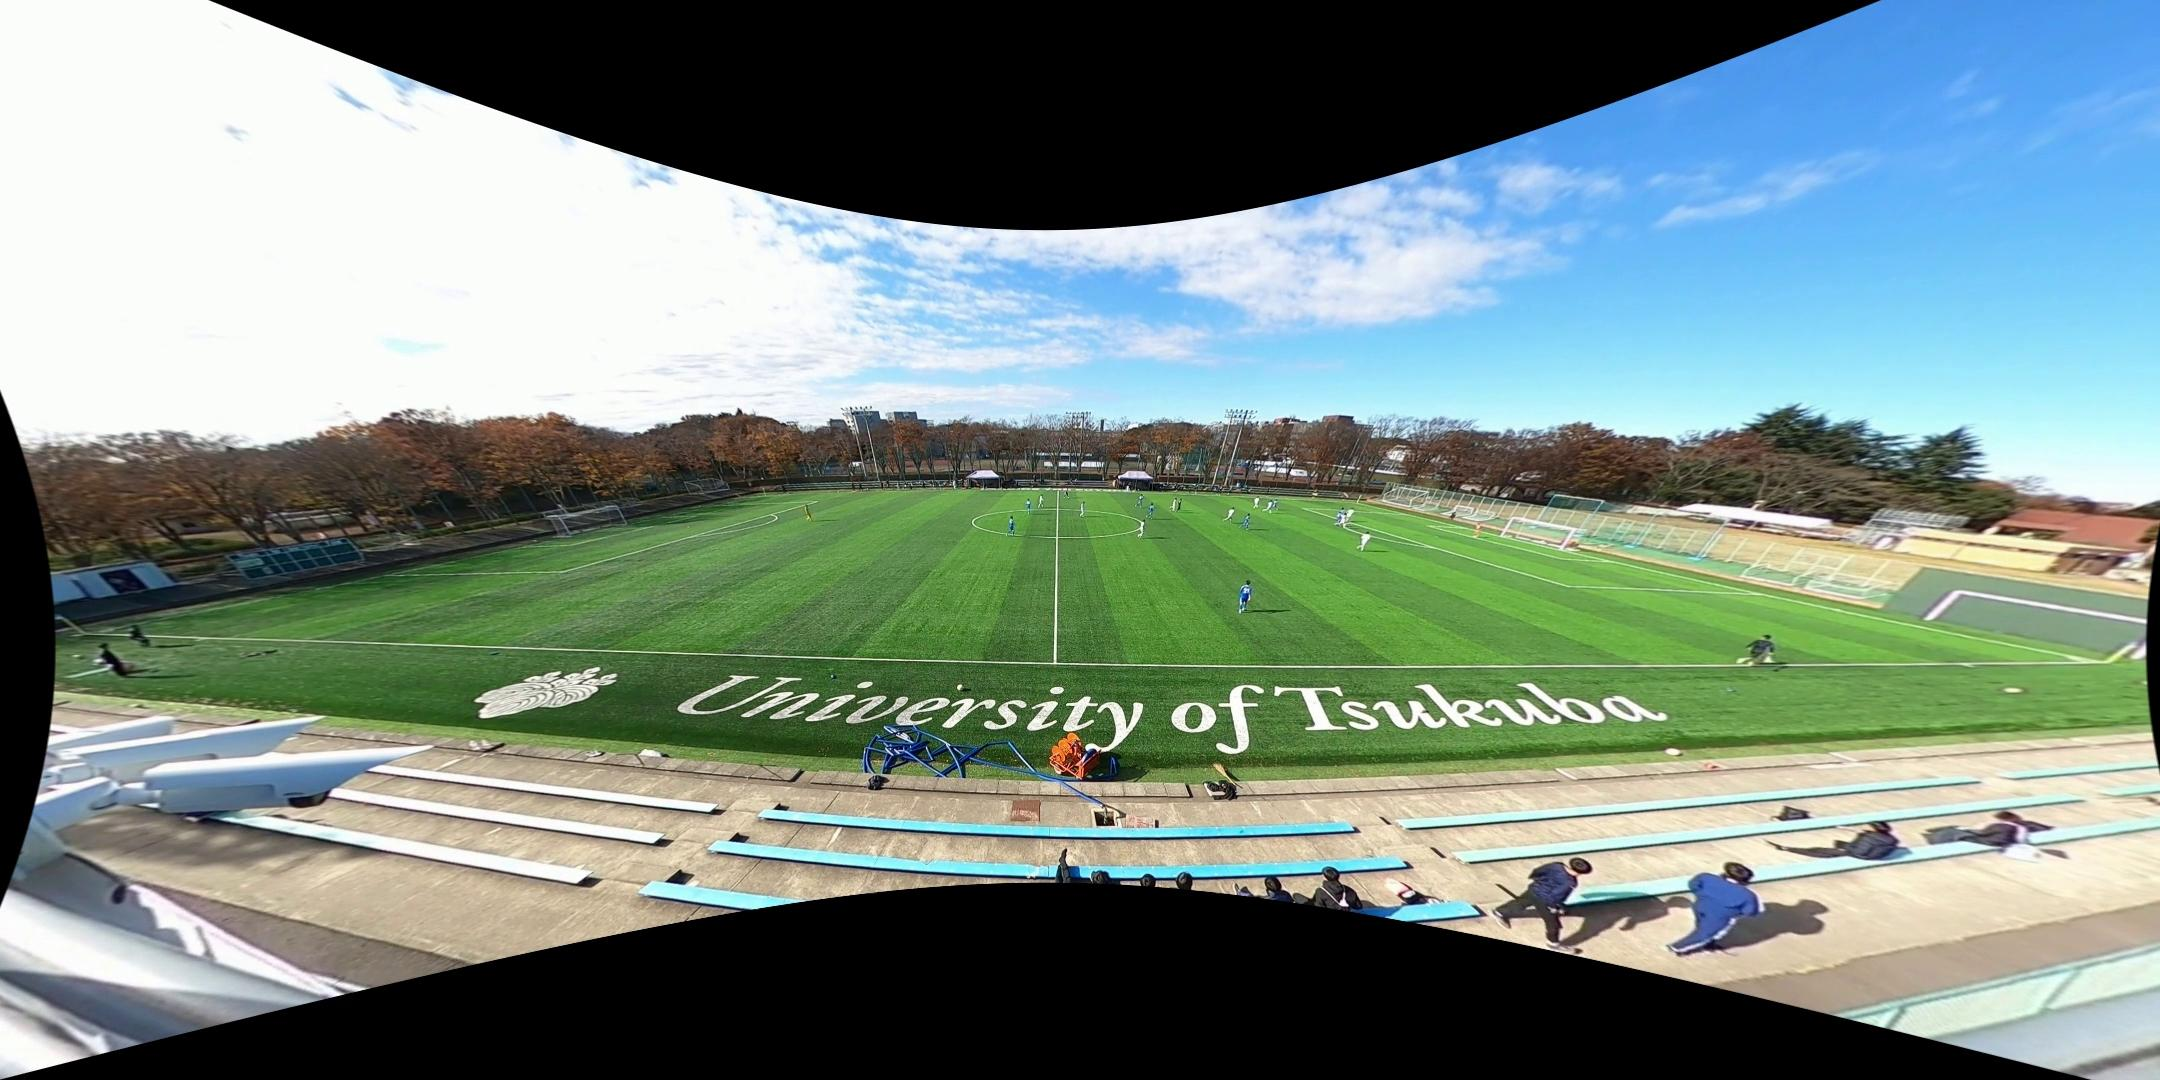person: (1735, 635, 1774, 666), (1237, 579, 1251, 614), (1356, 532, 1372, 551), (801, 504, 814, 522), (1005, 516, 1016, 536), (1334, 513, 1347, 529), (1471, 522, 1483, 539), (1136, 520, 1146, 539), (1338, 506, 1347, 526), (1241, 513, 1251, 531), (1224, 507, 1235, 523), (1146, 503, 1156, 520), (1346, 507, 1355, 523), (1269, 499, 1280, 512), (1078, 501, 1086, 518), (1336, 511, 1345, 526), (1135, 494, 1144, 509), (1262, 500, 1272, 513), (1169, 497, 1177, 513), (1025, 498, 1032, 516), (1062, 488, 1070, 499), (1253, 496, 1259, 510), (1177, 499, 1183, 513), (1039, 493, 1044, 508)
